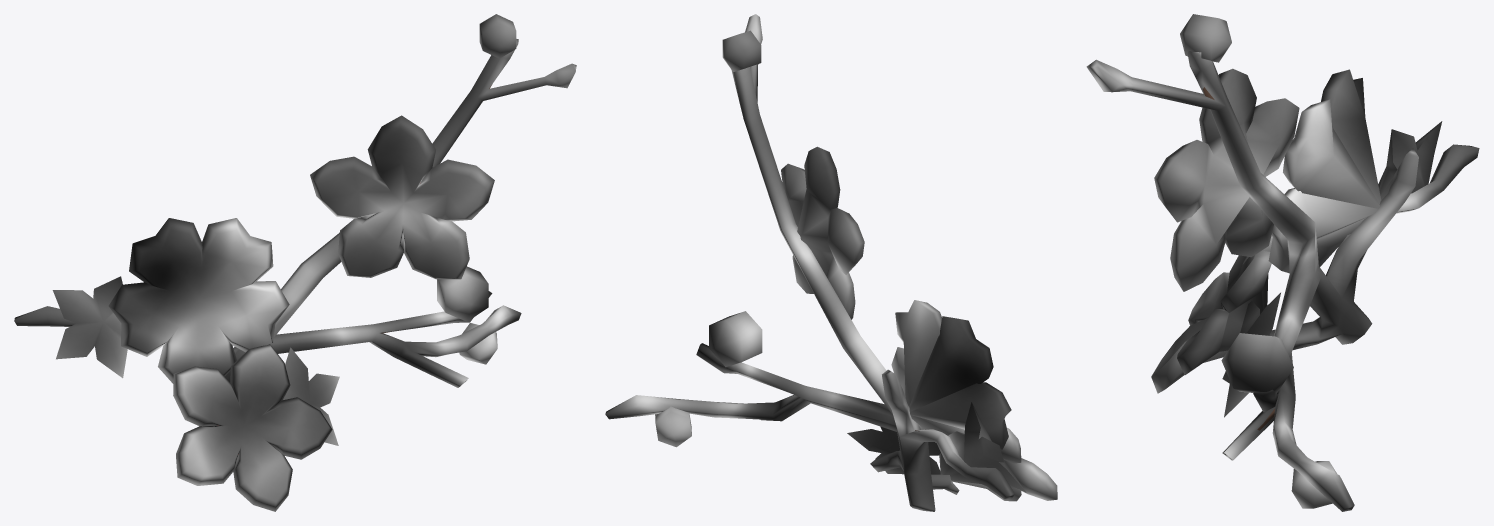
Rendered from Hu Tao_ Plum Branch.glb.
3 renders of one model, left to right at view 1: azimuth 30°, elevation 25°; view 2: azimuth 150°, elevation 25°; view 3: azimuth 270°, elevation 25°, orthographic. The views are drawn at different scales.
Parts seen in each view (by area): view 1: Eff_Model_Sc_HutaoPlum_01; view 2: Eff_Model_Sc_HutaoPlum_01; view 3: Eff_Model_Sc_HutaoPlum_01.
Boxes of the visible parts, box(x1,y1,x2,y2) form: Eff_Model_Sc_HutaoPlum_01: box(14, 14, 576, 511); Eff_Model_Sc_HutaoPlum_01: box(605, 14, 1057, 511); Eff_Model_Sc_HutaoPlum_01: box(1086, 14, 1479, 511).
Size of the model in its own units: 0.1703 by 0.1496 by 0.1015.
2 materials, 2 textured.
